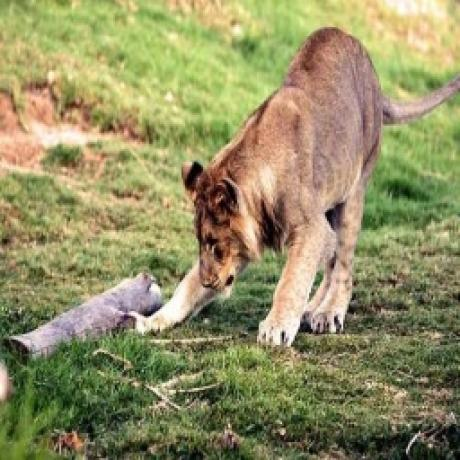Lion: (131, 23, 460, 348)
